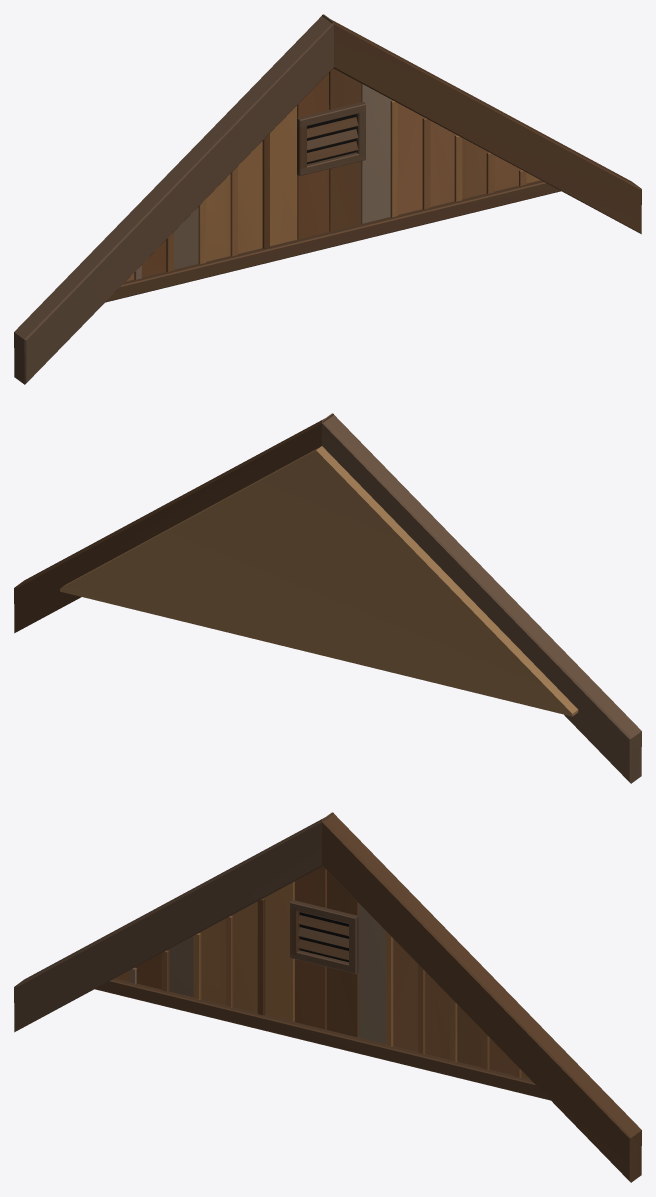
Rendered from wood_roof_gable_01.glb.
3 renders of one model, top to bottom at view 1: azimuth 30°, elevation 25°; view 2: azimuth 150°, elevation 25°; view 3: azimuth 330°, elevation 25°, orthographic.
Parts seen in each view (by area): view 1: wood_roof_gable_01_body; view 2: wood_roof_gable_01_body; view 3: wood_roof_gable_01_body.
Boxes of the visible parts, box(x1,y1,x2,y2) form: wood_roof_gable_01_body: box(14, 14, 641, 384); wood_roof_gable_01_body: box(14, 413, 641, 783); wood_roof_gable_01_body: box(14, 812, 641, 1182).
Size of the model in its own units: 4.82 by 2.15 by 0.24.
